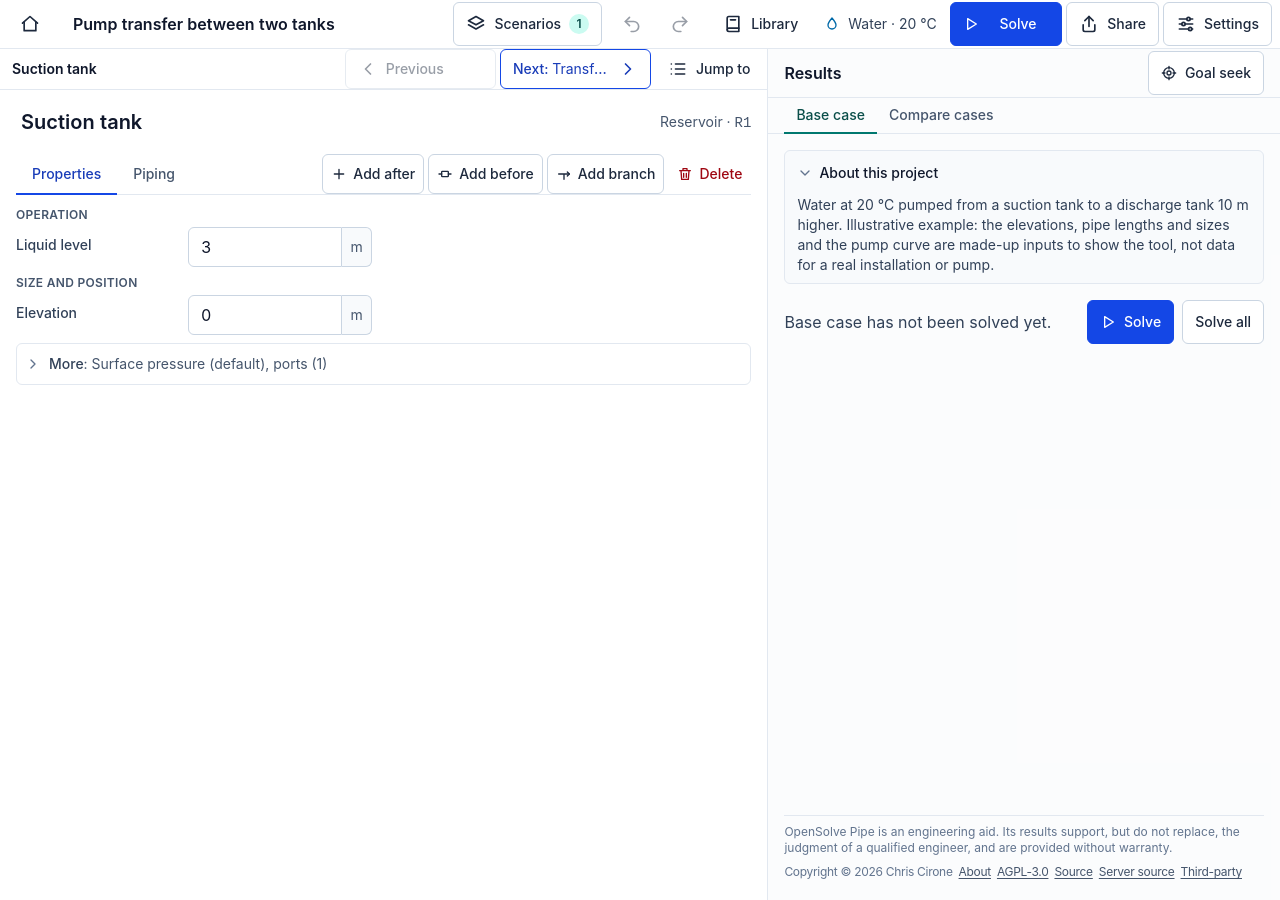
setting up a goal seek › keeps its fields editable in a scenario, and names the case
This screenshot has width=1280, height=900.
What coordinates should you click on to do the following:
click the button "Goal seek"
I would click on:
 (1206, 73)
Its box is top-left (1148, 51), bottom-right (1264, 95).
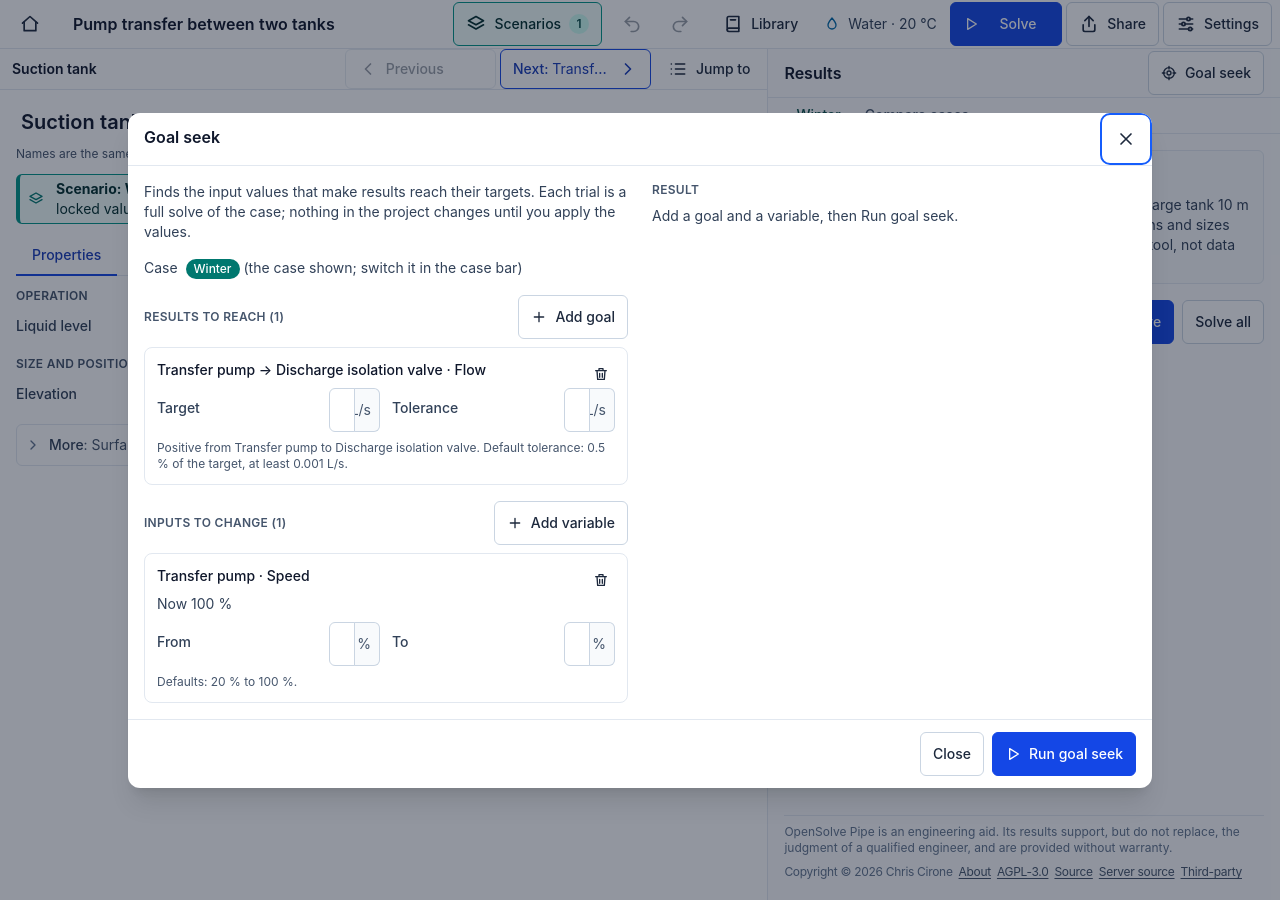
Result: the text "Winter" is shown at top-left (186, 258), bottom-right (240, 278)
